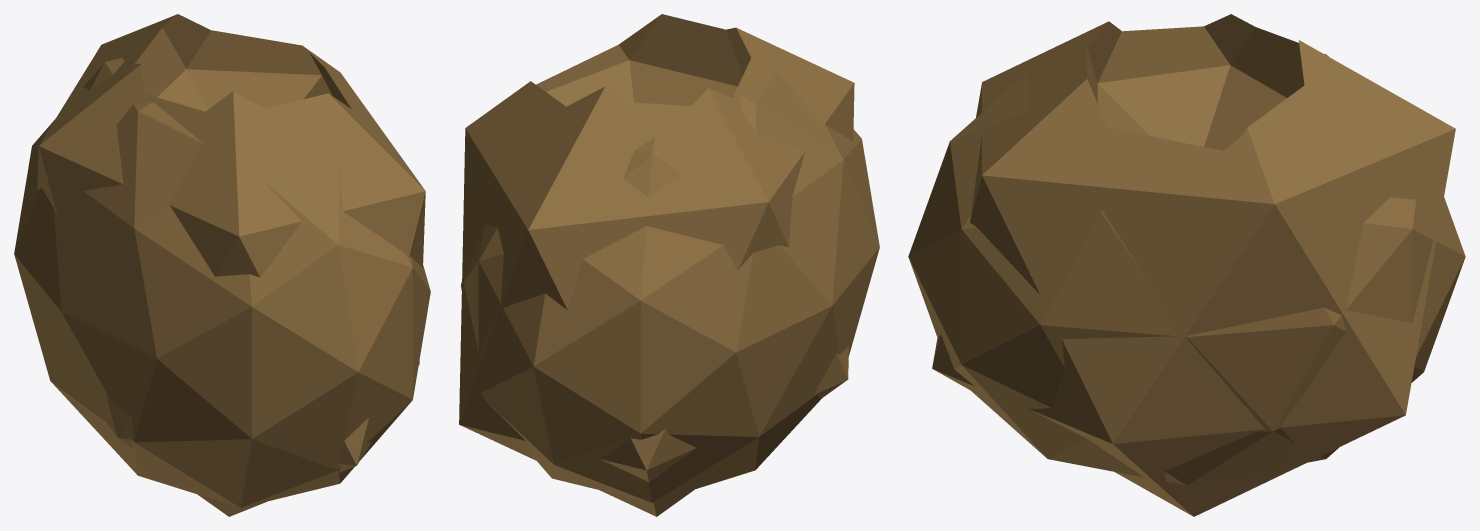
File: tinker_asteroid_2.glb
3 views of the same model, side by side, from view 1: azimuth 30°, elevation 25°; view 2: azimuth 150°, elevation 25°; view 3: azimuth 270°, elevation 25° (orthographic). The views are drawn at different scales.
Parts seen in each view (by area): view 1: Mesh_Mesh_head_geo.001_lambert2SG.001; view 2: Mesh_Mesh_head_geo.001_lambert2SG.001; view 3: Mesh_Mesh_head_geo.001_lambert2SG.001.
Boxes of the visible parts, <box> form: Mesh_Mesh_head_geo.001_lambert2SG.001: <box>14,14,430,516</box>; Mesh_Mesh_head_geo.001_lambert2SG.001: <box>459,14,879,516</box>; Mesh_Mesh_head_geo.001_lambert2SG.001: <box>908,14,1465,516</box>.
Bounding box in the file's own units: 16 × 22.12 × 23.41.
